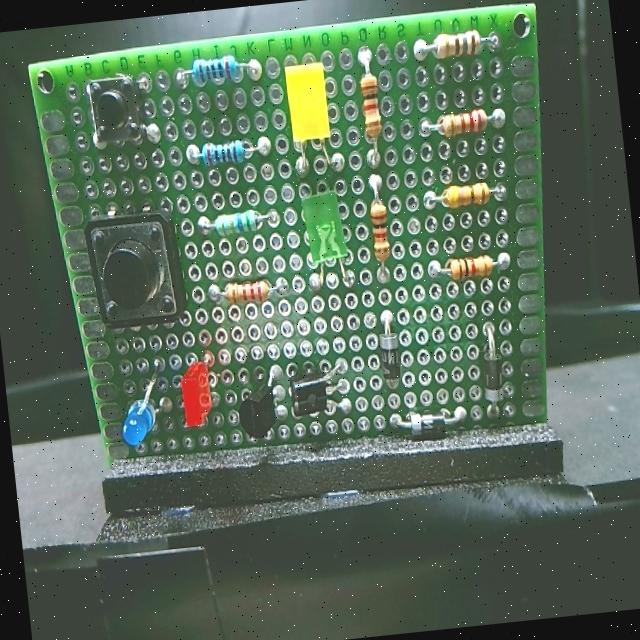diode: (474, 324, 514, 414), (395, 402, 470, 444), (371, 324, 408, 389)
led: (288, 178, 358, 290), (273, 49, 337, 152), (114, 366, 180, 459), (166, 353, 228, 441)
resistor: (174, 48, 264, 94), (410, 21, 500, 64), (200, 200, 276, 250), (434, 240, 510, 290), (206, 269, 282, 318), (422, 175, 506, 218), (359, 191, 398, 277), (352, 47, 386, 145), (185, 132, 262, 171), (426, 101, 502, 140)
switch: (78, 197, 192, 338), (64, 60, 160, 158)
transistor: (286, 356, 353, 424), (240, 374, 287, 446)
